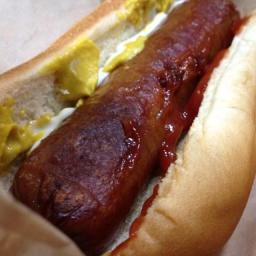hotdog: (34, 8, 244, 158), (81, 0, 189, 152), (10, 149, 125, 251)
